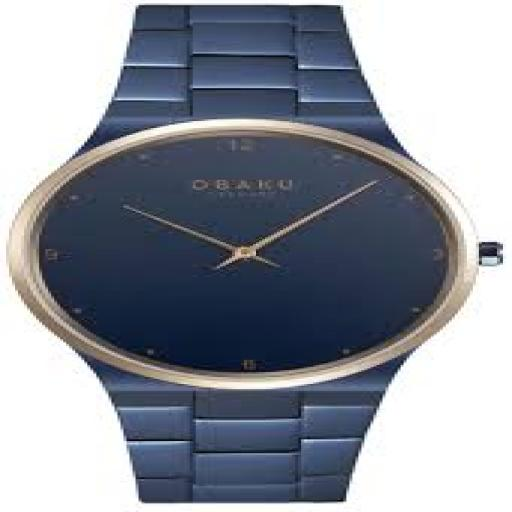KolSaati: (2, 0, 506, 505)
